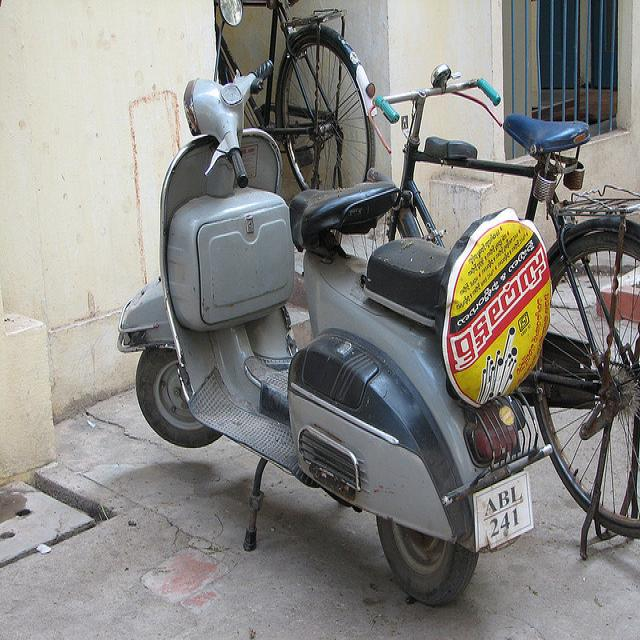motor: (114, 0, 551, 599)
